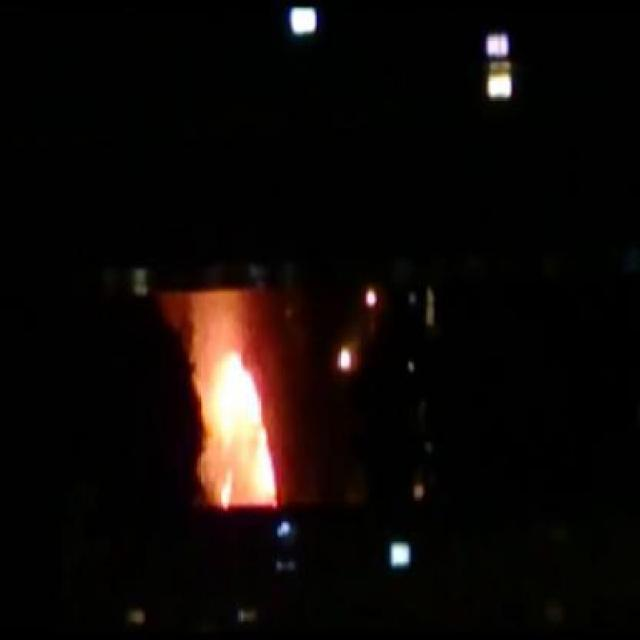Fire: (170, 285, 282, 507)
